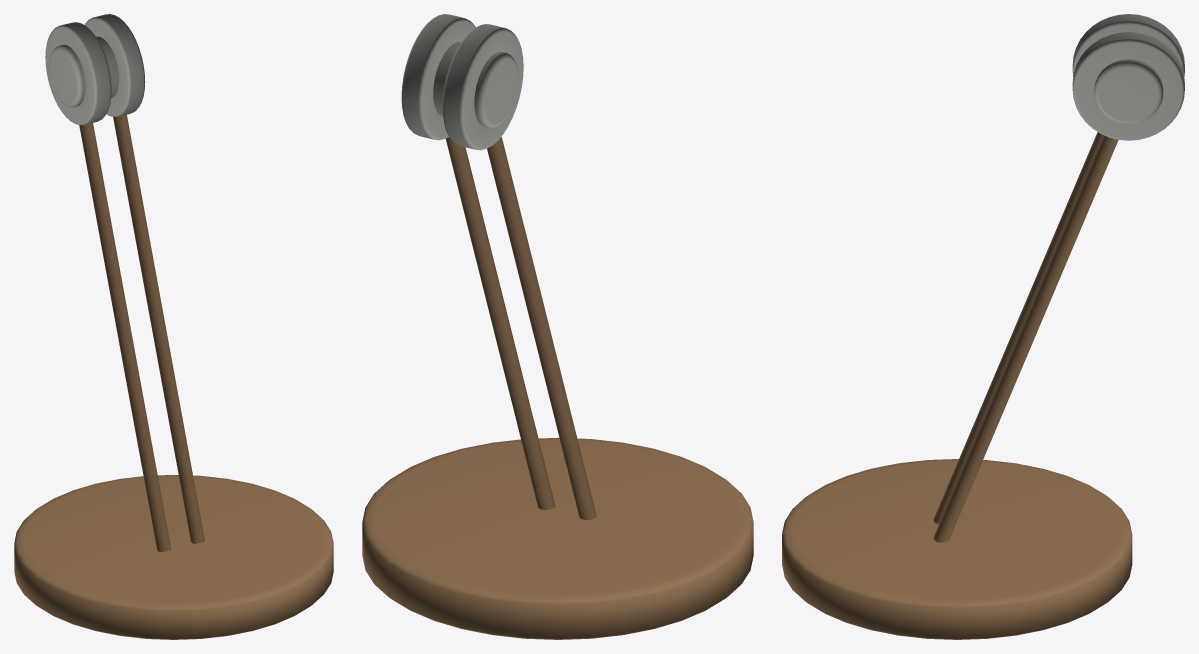
The model's file is lamp2.obj.
3 renders of one model, left to right at view 1: azimuth 30°, elevation 25°; view 2: azimuth 150°, elevation 25°; view 3: azimuth 270°, elevation 25°, orthographic. The views are drawn at different scales.
Parts seen in each view (by area): view 1: lamp2:polySurface24; view 2: lamp2:polySurface24; view 3: lamp2:polySurface24.
Part boxes in pixels (left/top/right/bottom): lamp2:polySurface24: left=14, top=14, right=333, bottom=639; lamp2:polySurface24: left=362, top=14, right=753, bottom=639; lamp2:polySurface24: left=782, top=14, right=1184, bottom=639.
Bounding box in the file's own units: 1.81 × 3.09 × 2.08.
2 materials, 2 textured.
